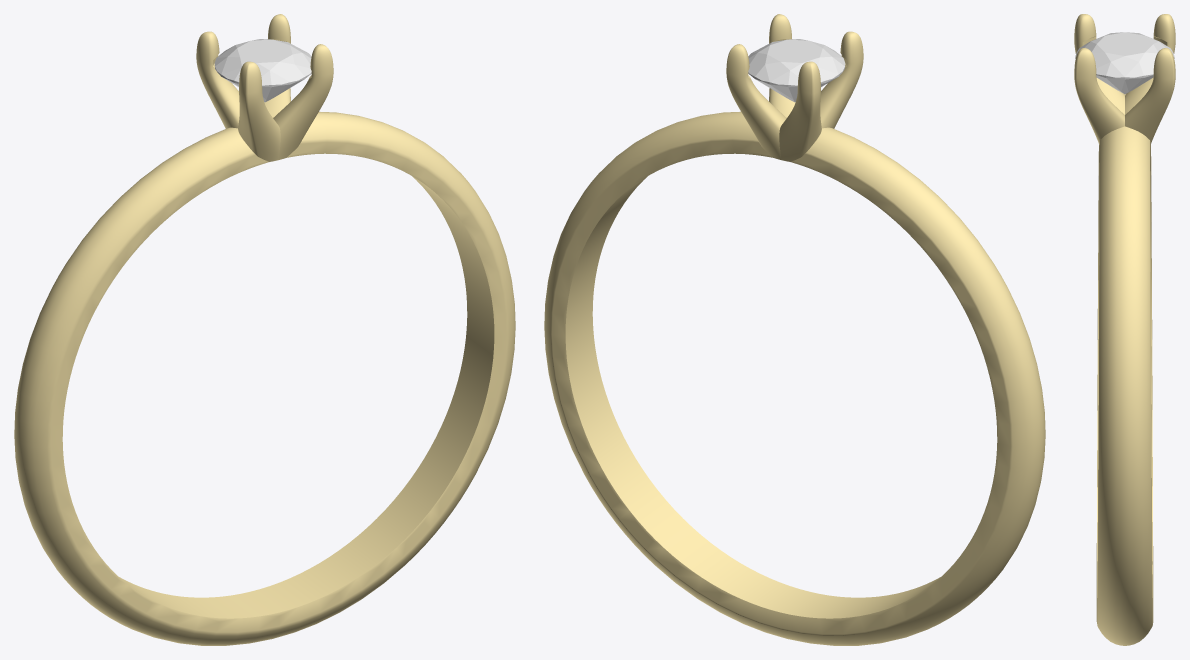
3 views of the same model, side by side, from view 1: azimuth 30°, elevation 25°; view 2: azimuth 150°, elevation 25°; view 3: azimuth 270°, elevation 25° (orthographic).
Parts seen in each view (by area): view 1: Anel Solitario Tradicional Pedra Redonda Render.3dm; view 2: Anel Solitario Tradicional Pedra Redonda Render.3dm; view 3: Anel Solitario Tradicional Pedra Redonda Render.3dm.
Part boxes in pixels (bbox=[...]): Anel Solitario Tradicional Pedra Redonda Render.3dm: bbox=[14, 14, 515, 645]; Anel Solitario Tradicional Pedra Redonda Render.3dm: bbox=[544, 14, 1045, 645]; Anel Solitario Tradicional Pedra Redonda Render.3dm: bbox=[1074, 14, 1175, 645].
Size of the model in its own units: 2.6 by 3.01 by 0.4697.
